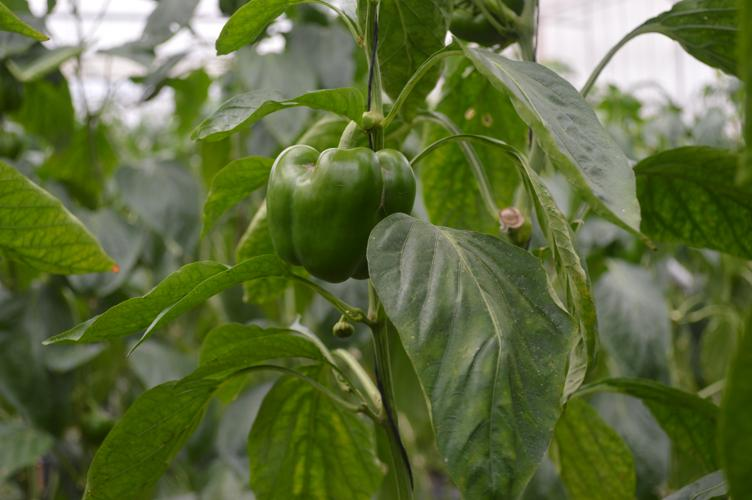BellPepper: (260, 145, 413, 276)
